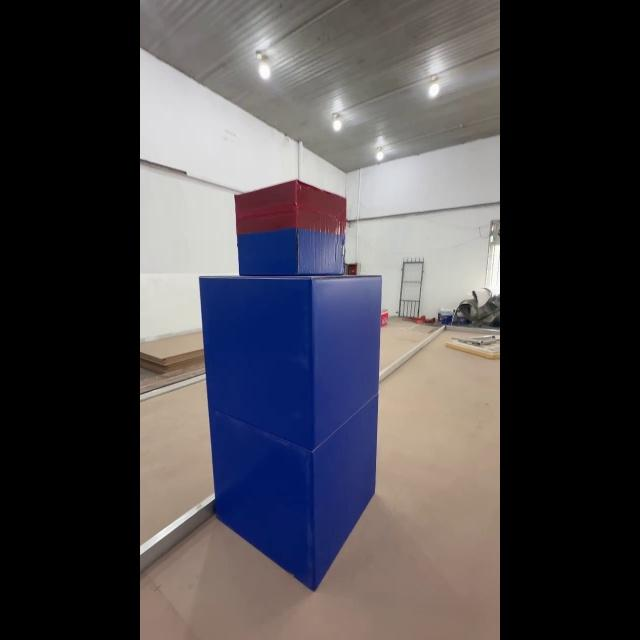sky_block: (234, 180, 352, 277)
